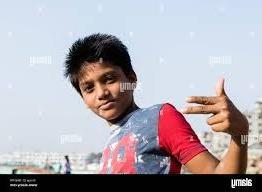Human: (64, 27, 247, 190)
